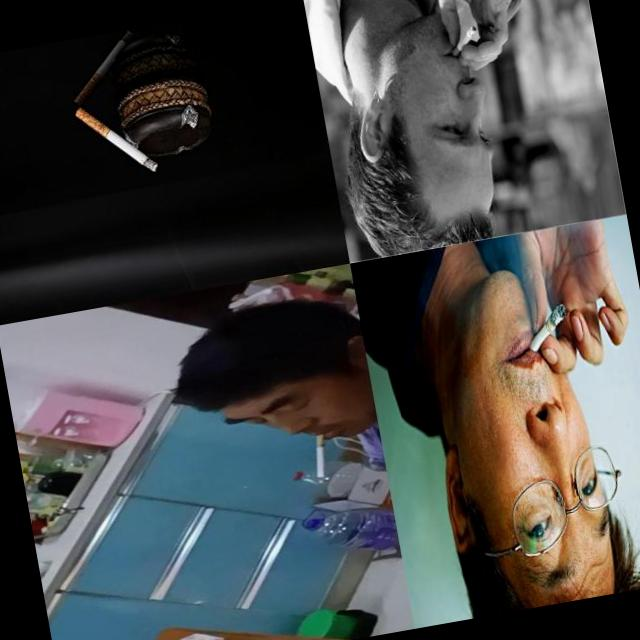cigarette: (72, 95, 162, 188), (60, 31, 146, 107), (514, 299, 574, 361), (446, 24, 481, 58), (308, 432, 330, 478)
